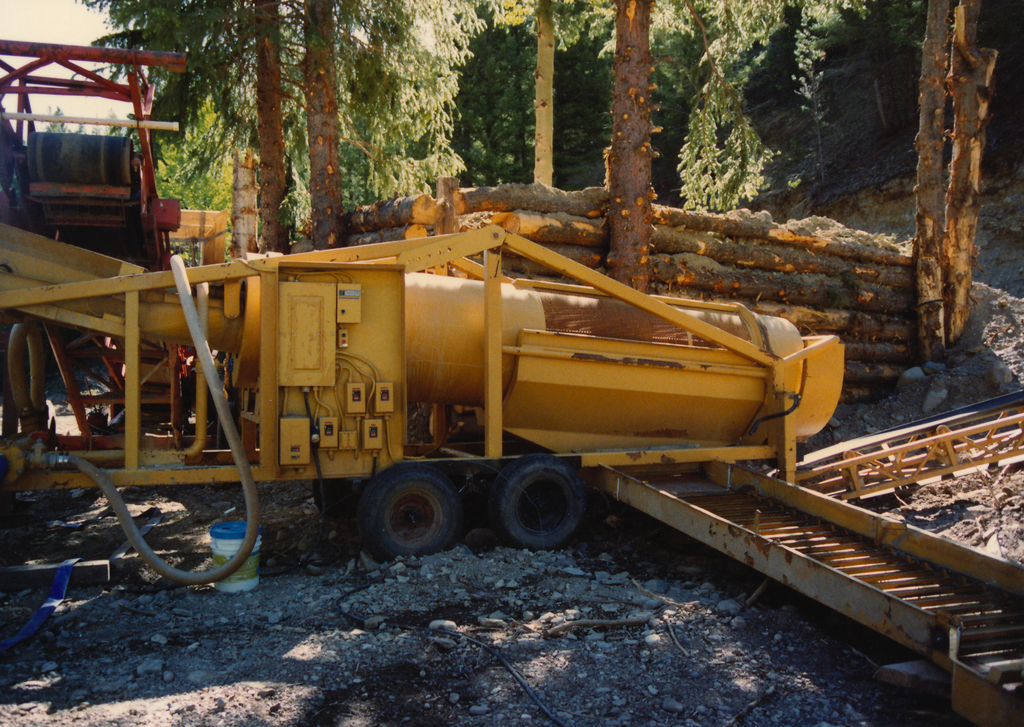Tree: (74, 0, 1023, 361)
